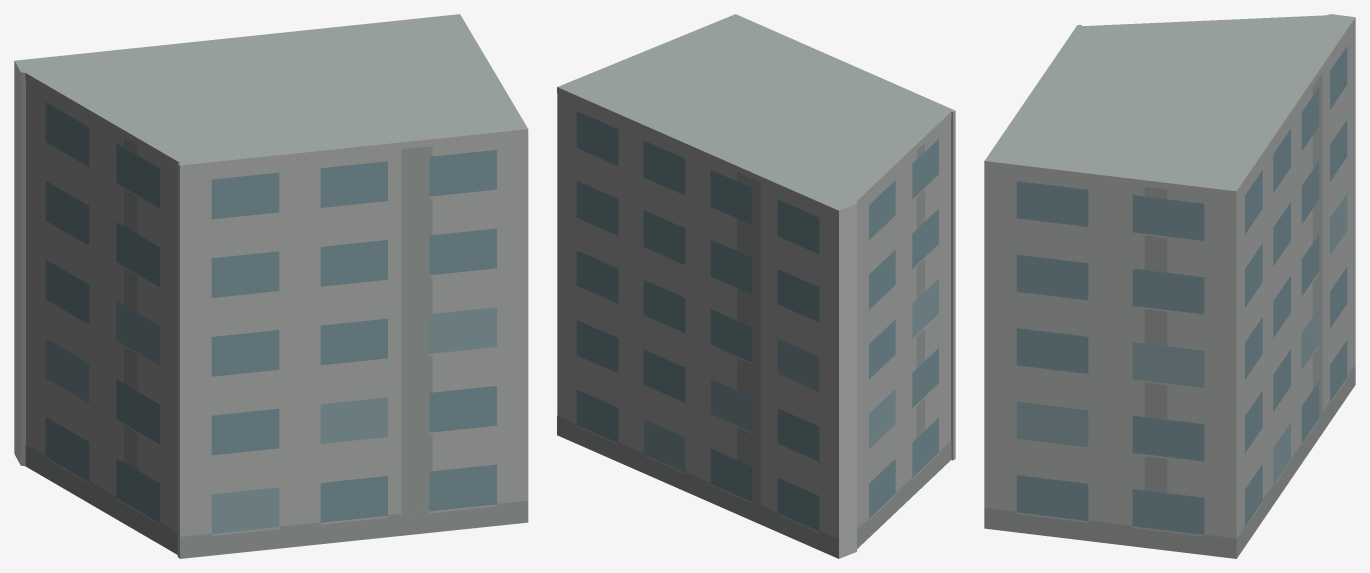
Rendered from survey-upis-32685381.glb.
3 views of the same model, side by side, from view 1: azimuth 30°, elevation 25°; view 2: azimuth 150°, elevation 25°; view 3: azimuth 270°, elevation 25° (orthographic). The views are drawn at different scales.
Visible parts, largest first — view 1: survey-upis-32685381.tmp; view 2: survey-upis-32685381.tmp; view 3: survey-upis-32685381.tmp.
Boxes of the visible parts, x1=… form: survey-upis-32685381.tmp: x1=14, y1=14, x2=528, y2=558; survey-upis-32685381.tmp: x1=557, y1=14, x2=955, y2=558; survey-upis-32685381.tmp: x1=984, y1=14, x2=1355, y2=558.
Bounding box in the file's own units: 13.98 × 13.5 × 12.36.
